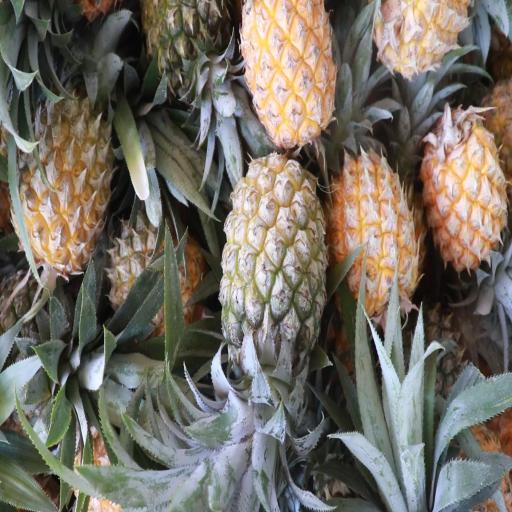------------------------------: (220, 155, 325, 374), (110, 204, 205, 330)
Pineapple - v8 v1: (16, 89, 111, 268), (422, 101, 504, 268), (333, 153, 418, 313), (245, 1, 339, 137)
